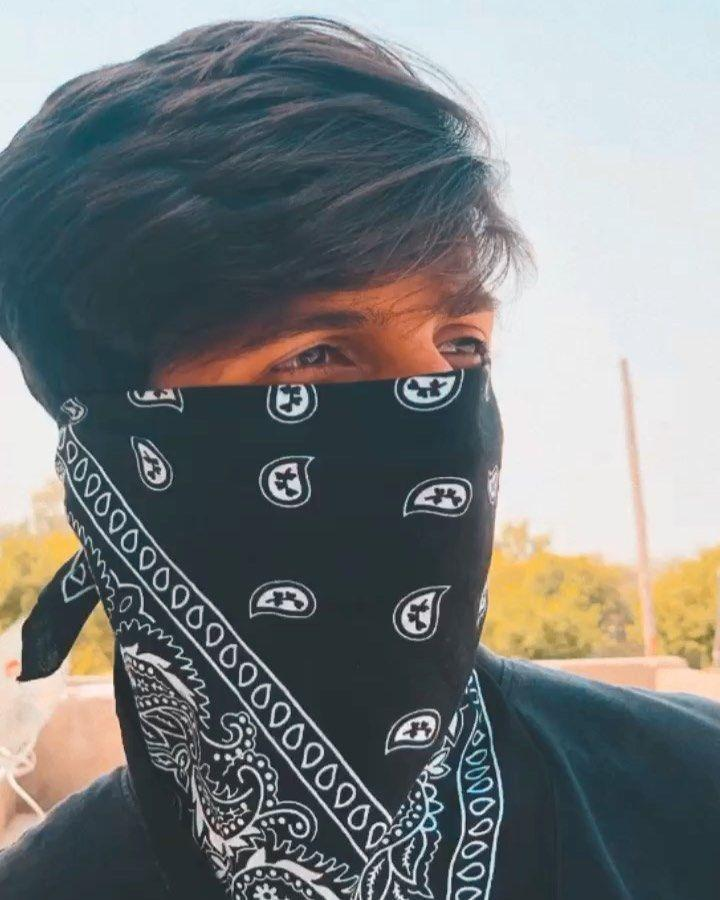scarf-kerchief: (5, 348, 513, 900)
